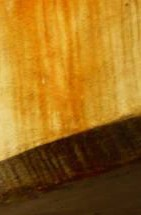Corrosion: (1, 1, 141, 162)
